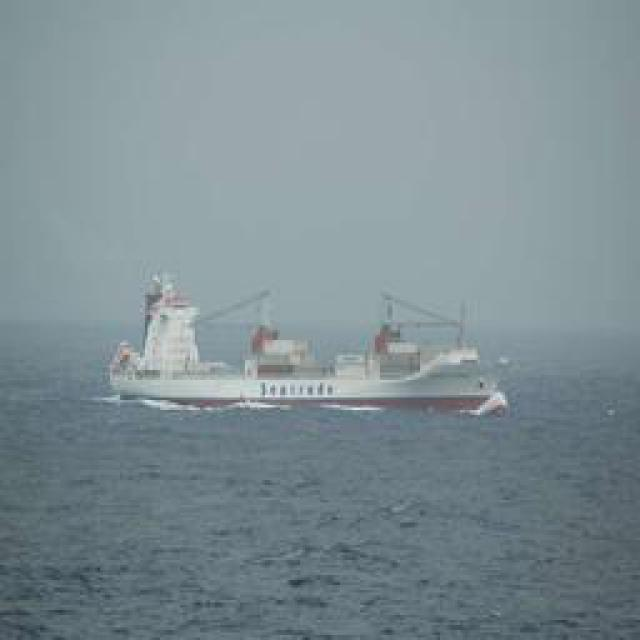Ship: (106, 276, 506, 414)
